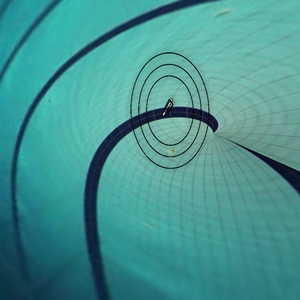circle: (119, 36, 230, 175)
submarine: (157, 94, 182, 121)
